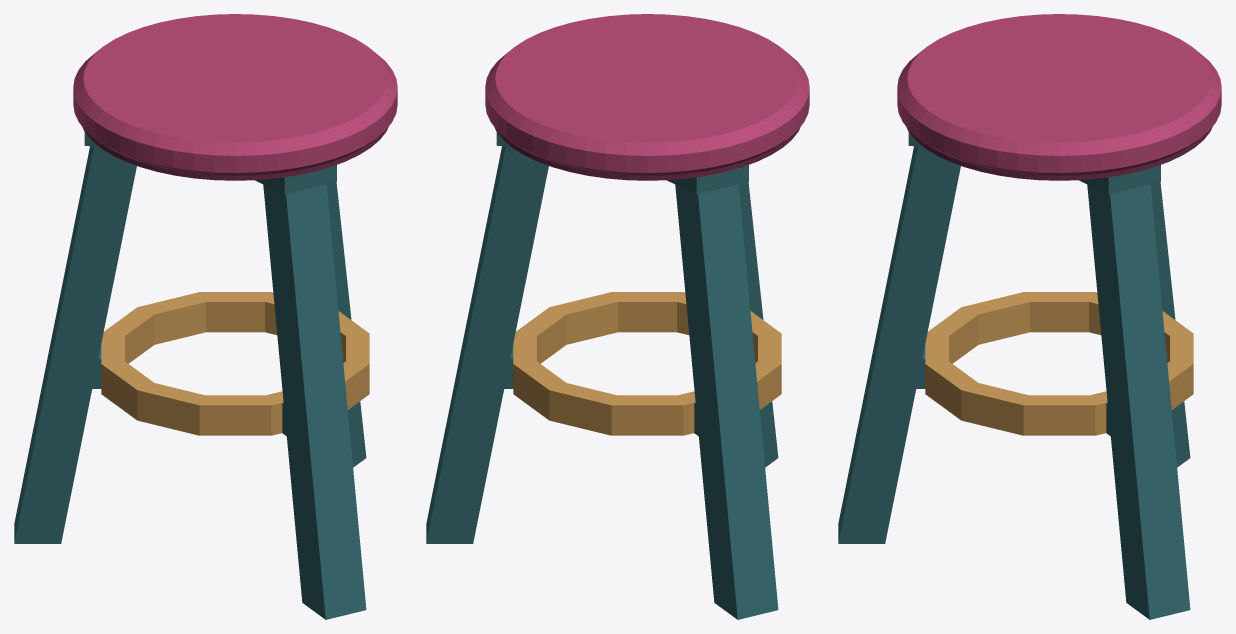
3 renders of one model, left to right at view 1: azimuth 30°, elevation 25°; view 2: azimuth 150°, elevation 25°; view 3: azimuth 270°, elevation 25°, orthographic.
Parts seen in each view (by area): view 1: Cushion_ThickBevelledRound, Leg_1_ContinuousSplayAndRingLug, Leg_3_ContinuousSplayAndRingLug, Footrest_CompleteDodecagonalAnnulus, Leg_2_ContinuousSplayAndRingLug, SeatCradle_OpenCentreThreeSpokes; view 2: Cushion_ThickBevelledRound, Leg_3_ContinuousSplayAndRingLug, Leg_2_ContinuousSplayAndRingLug, Footrest_CompleteDodecagonalAnnulus, Leg_1_ContinuousSplayAndRingLug, SeatCradle_OpenCentreThreeSpokes; view 3: Cushion_ThickBevelledRound, Leg_2_ContinuousSplayAndRingLug, Leg_1_ContinuousSplayAndRingLug, Footrest_CompleteDodecagonalAnnulus, Leg_3_ContinuousSplayAndRingLug, SeatCradle_OpenCentreThreeSpokes.
Part boxes in pixels (<box>): Cushion_ThickBevelledRound: <box>73,14,397,180</box>; Leg_1_ContinuousSplayAndRingLug: <box>263,184,366,619</box>; Leg_3_ContinuousSplayAndRingLug: <box>14,146,136,543</box>; Footrest_CompleteDodecagonalAnnulus: <box>101,292,369,435</box>; Leg_2_ContinuousSplayAndRingLug: <box>326,182,366,467</box>; SeatCradle_OpenCentreThreeSpokes: <box>84,132,336,194</box>; Cushion_ThickBevelledRound: <box>485,14,809,180</box>; Leg_3_ContinuousSplayAndRingLug: <box>675,184,778,619</box>; Leg_2_ContinuousSplayAndRingLug: <box>426,146,548,543</box>; Footrest_CompleteDodecagonalAnnulus: <box>513,292,781,435</box>; Leg_1_ContinuousSplayAndRingLug: <box>738,182,778,467</box>; SeatCradle_OpenCentreThreeSpokes: <box>496,132,748,194</box>; Cushion_ThickBevelledRound: <box>897,14,1221,180</box>; Leg_2_ContinuousSplayAndRingLug: <box>1087,184,1190,619</box>; Leg_1_ContinuousSplayAndRingLug: <box>838,146,960,543</box>; Footrest_CompleteDodecagonalAnnulus: <box>925,292,1193,435</box>; Leg_3_ContinuousSplayAndRingLug: <box>1150,182,1190,467</box>; SeatCradle_OpenCentreThreeSpokes: <box>908,132,1160,194</box>.
Size of the model in its own units: 0.6066 by 0.75 by 0.572.
